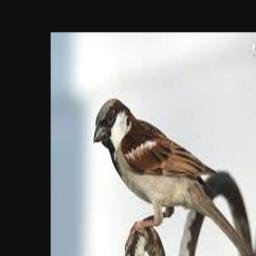Sparrow: (94, 99, 255, 256)
